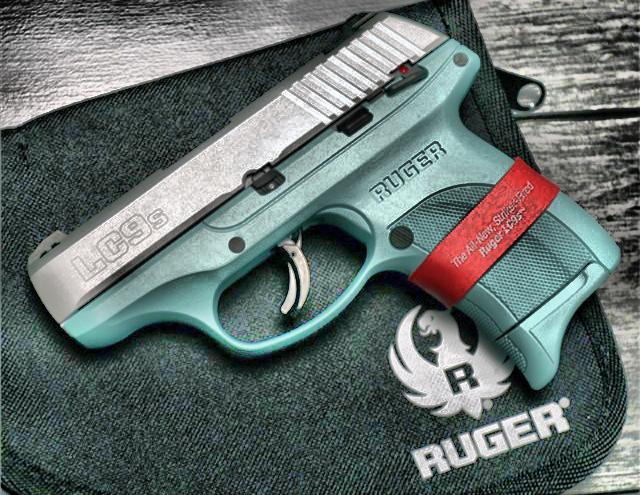pistol: (19, 12, 610, 408)
